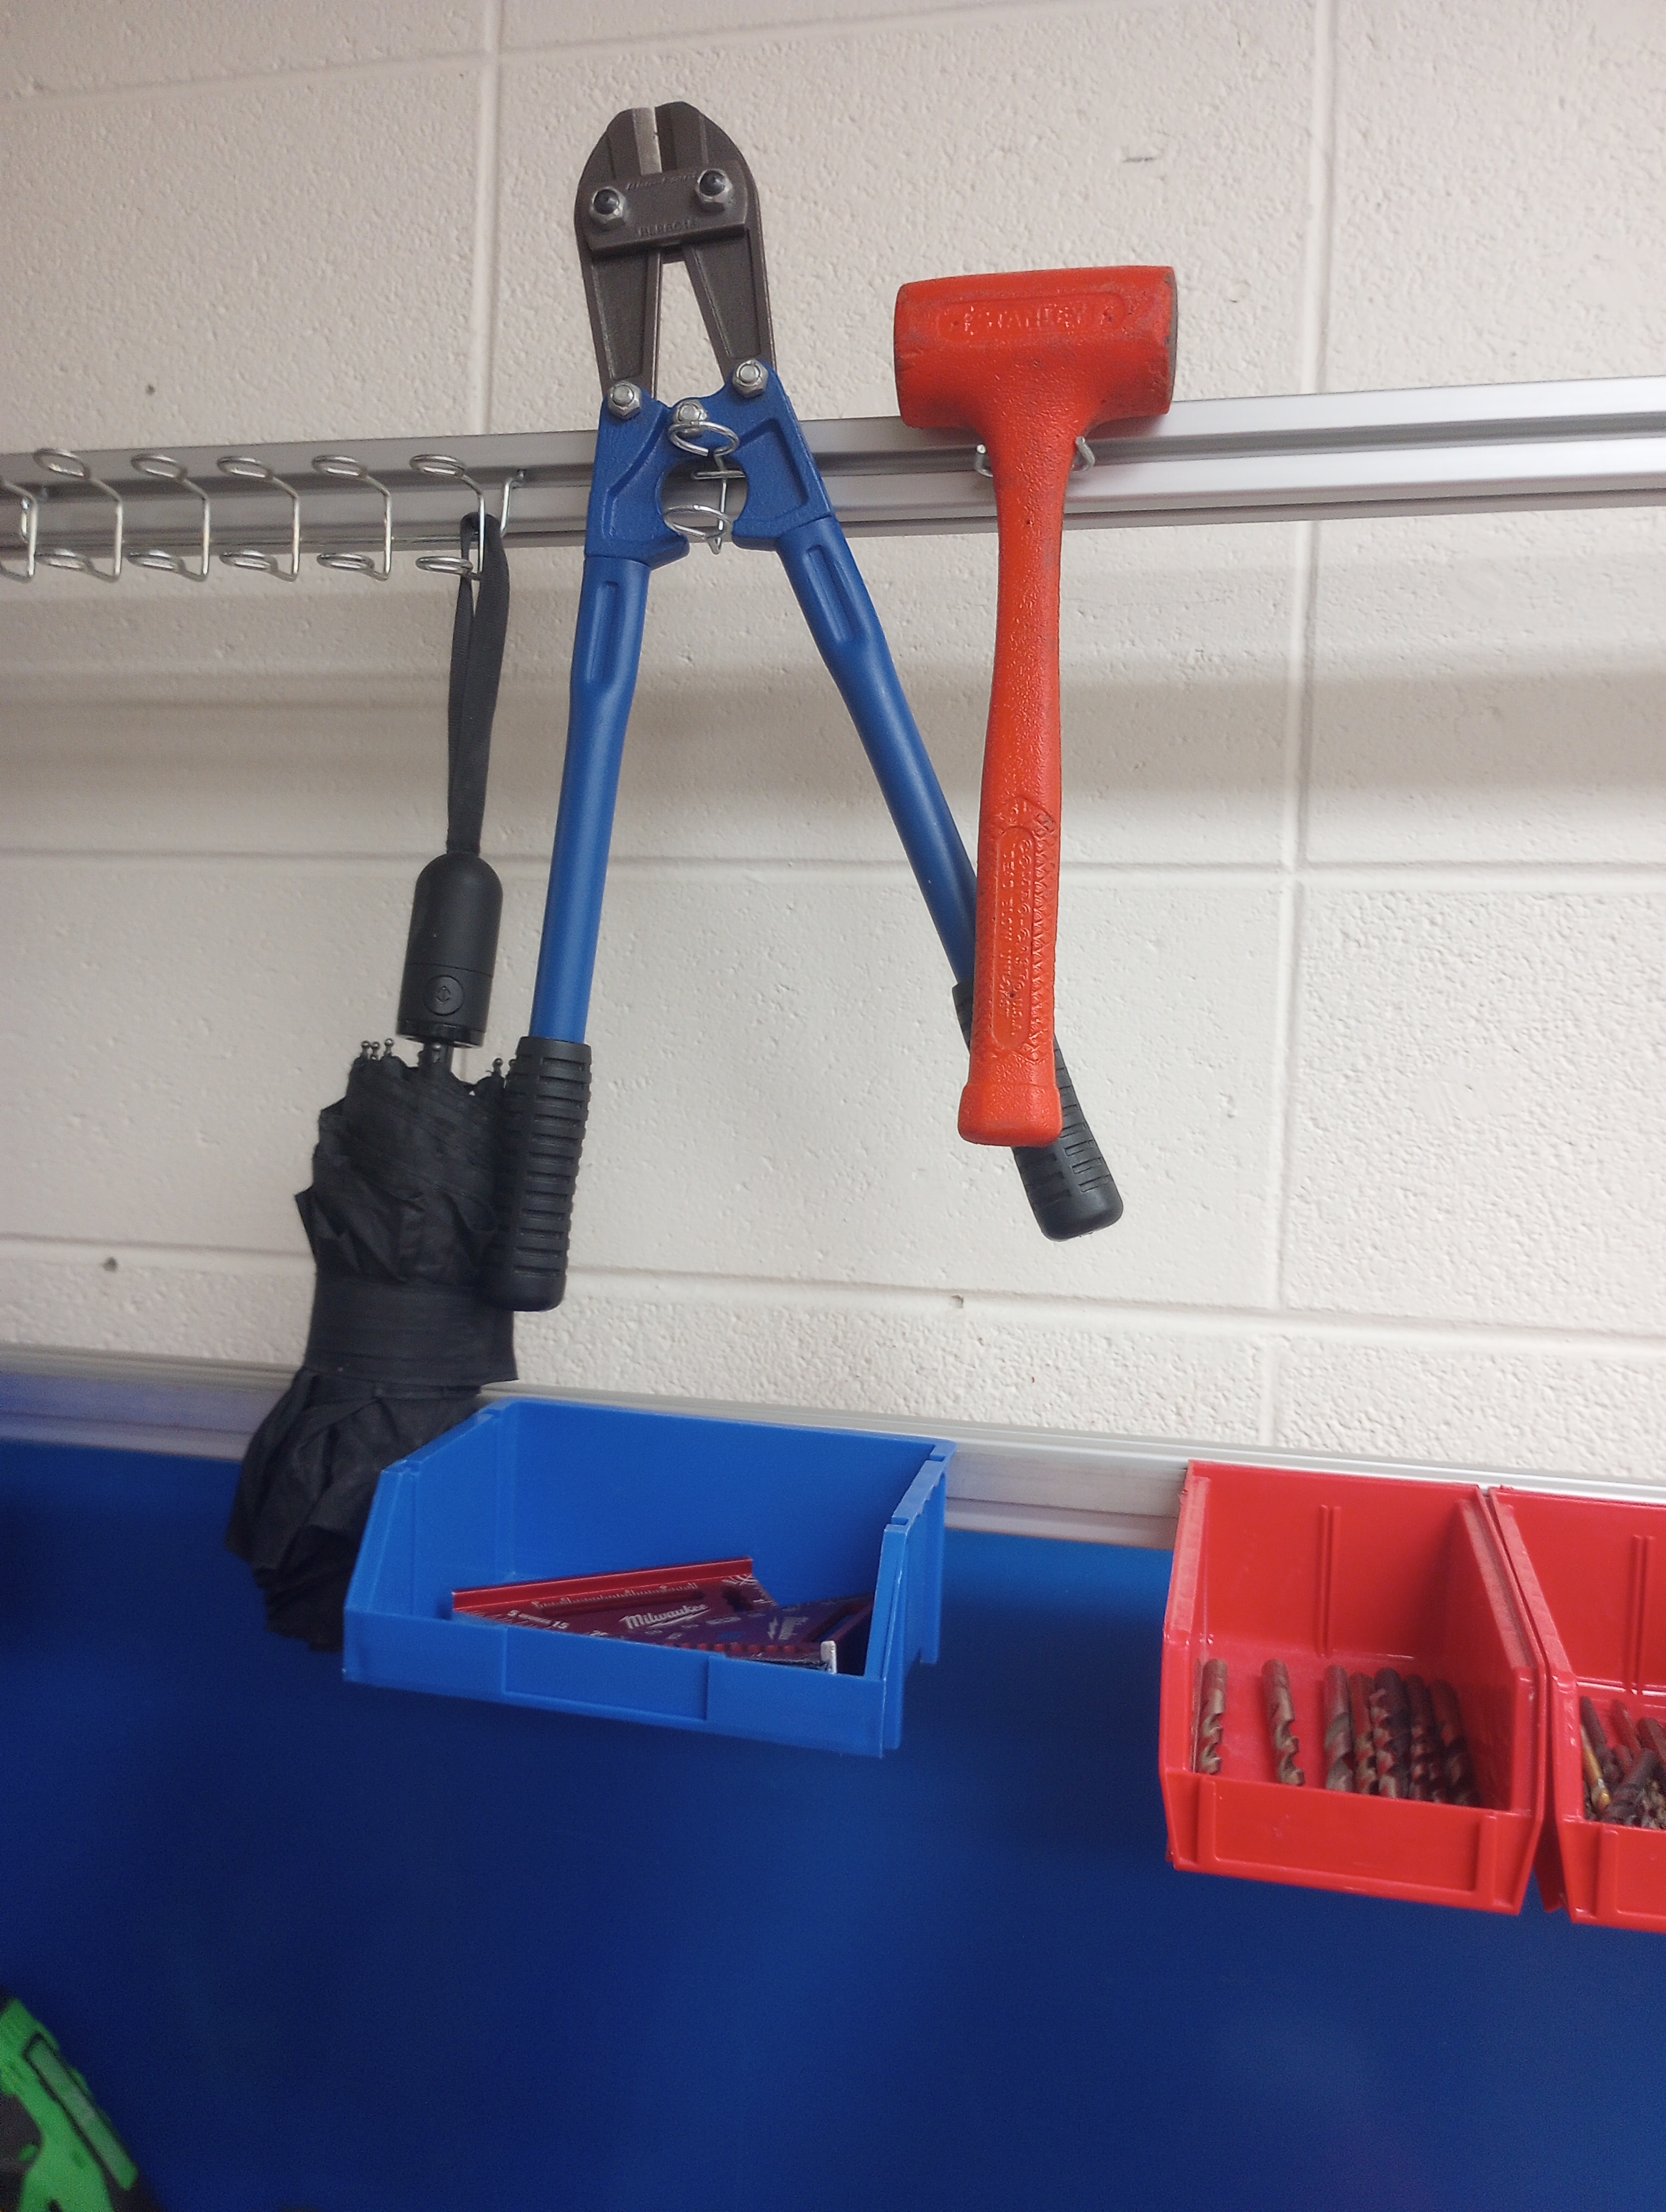bottle: (891, 250, 1181, 1149)
